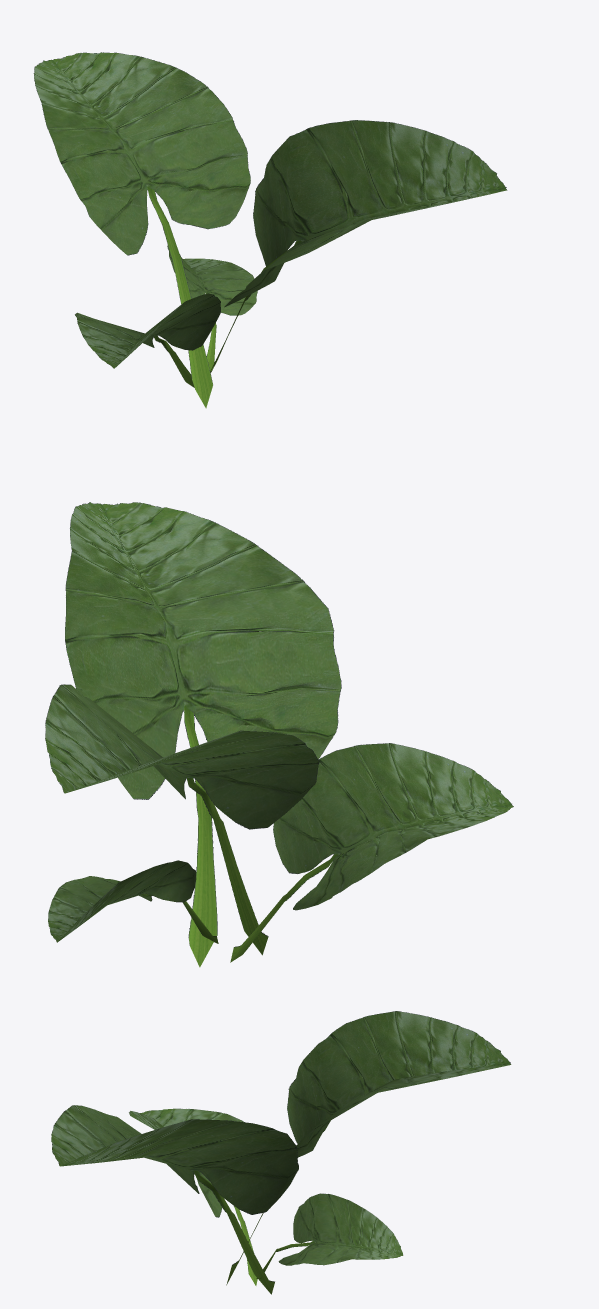
File: BushObj.obj
The picture shows the model from 3 angles, top to bottom: view 1: azimuth 30°, elevation 25°; view 2: azimuth 150°, elevation 25°; view 3: azimuth 270°, elevation 25°; orthographic projection. The views are drawn at different scales.
Visible parts, largest first — view 1: BushObj; view 2: BushObj; view 3: BushObj.
Boxes of the visible parts, x1,y1,x2,y2 form: BushObj: [33, 52, 507, 408]; BushObj: [45, 502, 513, 967]; BushObj: [51, 1011, 511, 1294].
Bounding box in the file's own units: 90.91 × 52.47 × 109.
1 material, 1 textured.
